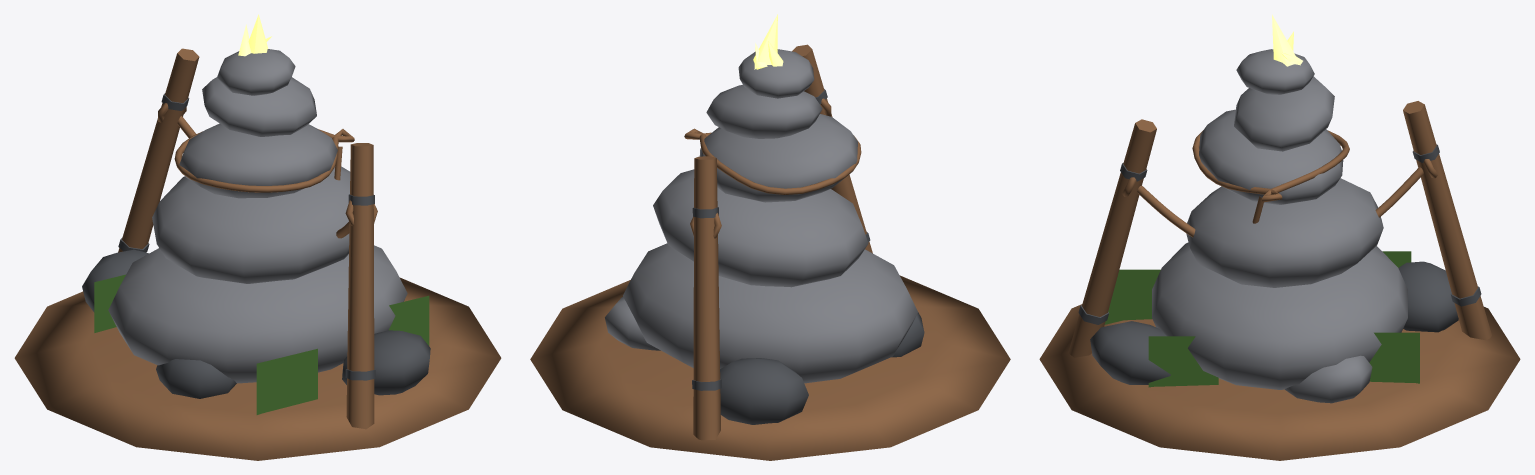
The model's file is cave-anchor.glb.
3 views of the same model, side by side, from view 1: azimuth 30°, elevation 25°; view 2: azimuth 150°, elevation 25°; view 3: azimuth 270°, elevation 25° (orthographic).
Visible parts, largest first — view 1: Mesh_BaseMound, Mesh_Stone1, Mesh_Stone2, Mesh_Stone3, Mesh_PostB, Mesh_PostA, Mesh_Stone4, Mesh_SupportStone2, Mesh_Grass3, Mesh_Stone5, Mesh_SupportStone4, WrapRope (+3 smaller); view 2: Mesh_BaseMound, Mesh_Stone1, Mesh_Stone2, Mesh_Stone3, Mesh_PostA, Mesh_SupportStone1, Mesh_Stone4, Mesh_Stone5, WrapRope, Mesh_SupportStone3, Mesh_PostB, Mesh_SupportStone4 (+1 smaller); view 3: Mesh_BaseMound, Mesh_Stone1, Mesh_Stone2, Mesh_Stone3, Mesh_PostA, Mesh_PostB, Mesh_Stone4, Mesh_SupportStone2, Mesh_SupportStone1, Mesh_SupportStone3, Mesh_Stone5, Mesh_Grass2 (+5 smaller).
Part boxes in pixels (x1,y1,x2,y2): Mesh_BaseMound: (14,277,501,460); Mesh_Stone1: (108,245,407,383); Mesh_Stone2: (152,166,350,283); Mesh_Stone3: (179,123,337,198); Mesh_PostB: (346,143,374,429); Mesh_PostA: (118,48,199,252); Mesh_Stone4: (202,77,316,136); Mesh_SupportStone2: (342,330,430,395); Mesh_Grass3: (256,348,317,414); Mesh_Stone5: (217,49,295,95); Mesh_SupportStone4: (156,359,236,398); WrapRope: (174,129,354,192); Mesh_BaseMound: (530,275,1010,460); Mesh_Stone1: (623,243,917,383); Mesh_Stone2: (653,169,868,287); Mesh_Stone3: (699,114,857,202); Mesh_PostA: (693,156,720,440); Mesh_SupportStone1: (720,358,808,424); Mesh_Stone4: (706,84,822,138); Mesh_Stone5: (738,49,814,98); WrapRope: (684,128,861,194); Mesh_SupportStone3: (605,297,660,350); Mesh_PostB: (792,44,872,253); Mesh_SupportStone4: (891,312,924,357); Mesh_BaseMound: (1039,304,1520,460); Mesh_Stone1: (1152,242,1407,389); Mesh_Stone2: (1186,178,1383,287); Mesh_Stone3: (1199,109,1343,204); Mesh_PostA: (1403,101,1491,340); Mesh_PostB: (1068,119,1156,357); Mesh_Stone4: (1234,76,1334,151); Mesh_SupportStone2: (1090,321,1170,384); Mesh_SupportStone1: (1398,261,1458,332); Mesh_SupportStone3: (1285,355,1372,403); Mesh_Stone5: (1236,49,1314,94); Mesh_Grass2: (1148,336,1218,387).
Bounding box in the file's own units: 1.1 × 0.9269 × 1.1.
Materials: 2 (2 with a texture image).
